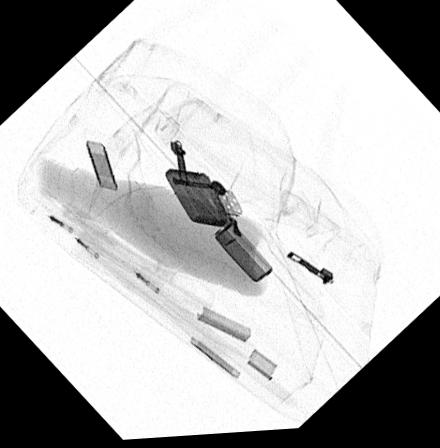Lighter: (163, 169, 272, 285)
